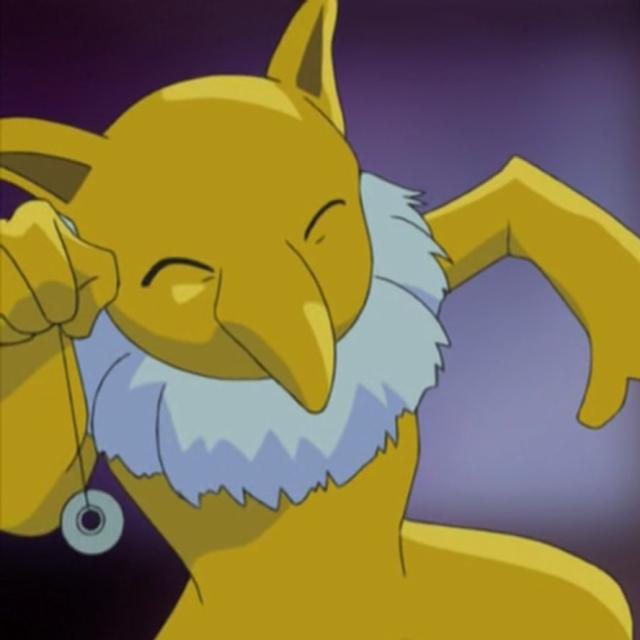Hypno: (21, 54, 479, 583)
